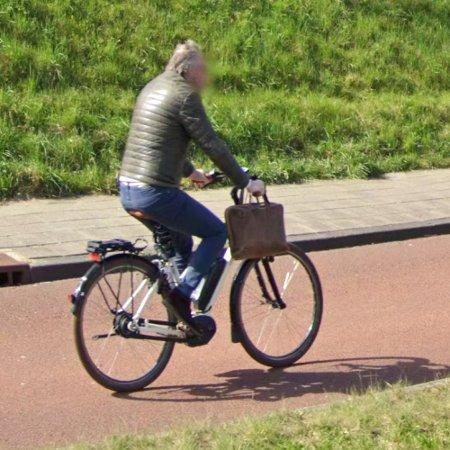bicycles: (71, 212, 232, 392), (230, 245, 324, 368)
